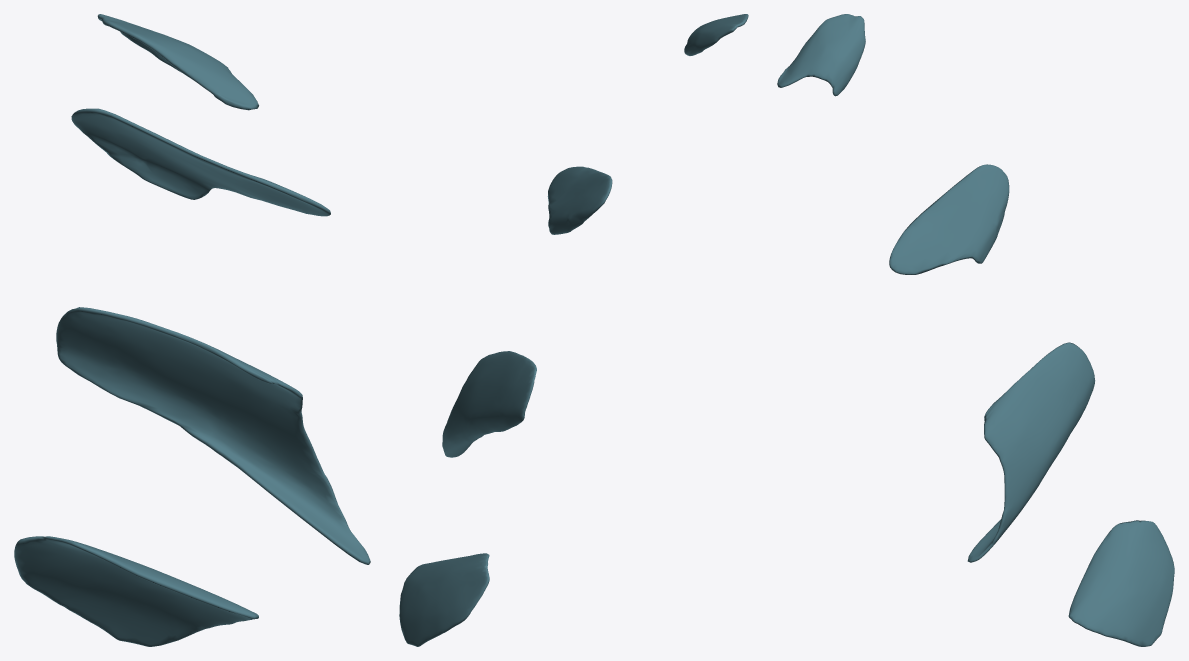
File: Serratus_posterior_superior_muscle-Thoracic_insertions.l_Genera.glb
The picture shows the model from 3 angles, left to right: view 1: azimuth 30°, elevation 25°; view 2: azimuth 150°, elevation 25°; view 3: azimuth 270°, elevation 25°; orthographic projection. The views are drawn at different scales.
Parts seen in each view (by area): view 1: Serratus_posterior_superior_muscle-Thoracic_insertions.l_Gen; view 2: Serratus_posterior_superior_muscle-Thoracic_insertions.l_Gen; view 3: Serratus_posterior_superior_muscle-Thoracic_insertions.l_Gen.
Boxes of the visible parts, x1,y1,x2,y2 form: Serratus_posterior_superior_muscle-Thoracic_insertions.l_Gen: [14, 14, 370, 646]; Serratus_posterior_superior_muscle-Thoracic_insertions.l_Gen: [399, 14, 748, 646]; Serratus_posterior_superior_muscle-Thoracic_insertions.l_Gen: [777, 14, 1174, 646].
Size of the model in its own units: 0.0388 by 0.0883 by 0.0584.
